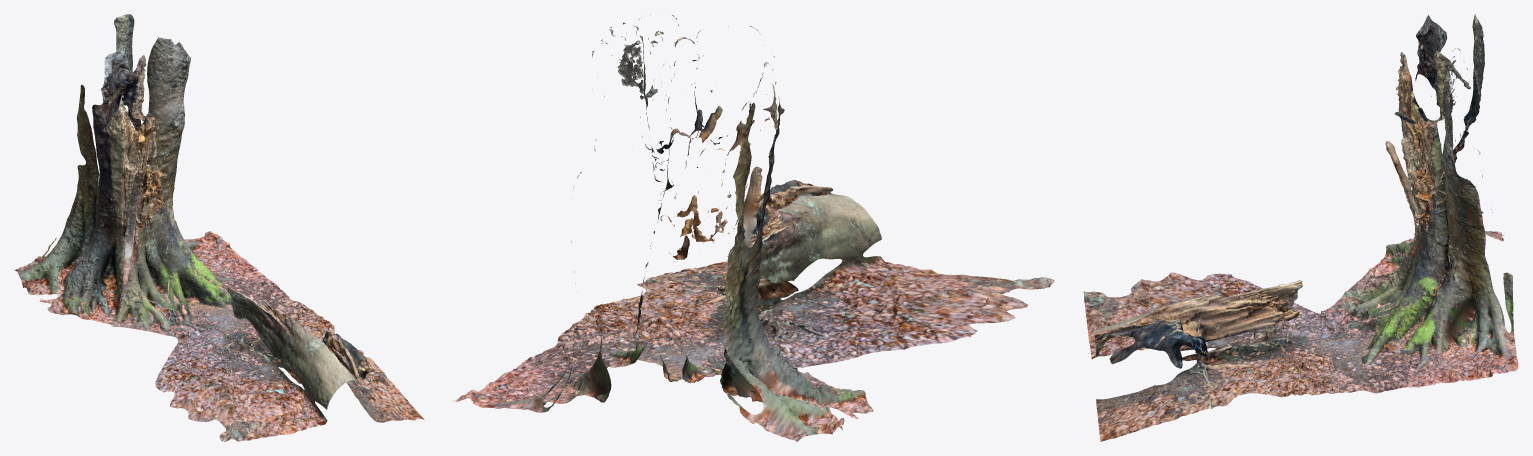
File: S048_FallenFamilyTree.glb
The picture shows the model from 3 angles, left to right: view 1: azimuth 30°, elevation 25°; view 2: azimuth 150°, elevation 25°; view 3: azimuth 270°, elevation 25°; orthographic projection. The views are drawn at different scales.
Bounding box in the file's own units: 3.25 × 4.08 × 4.58.
1 material, 1 textured.
